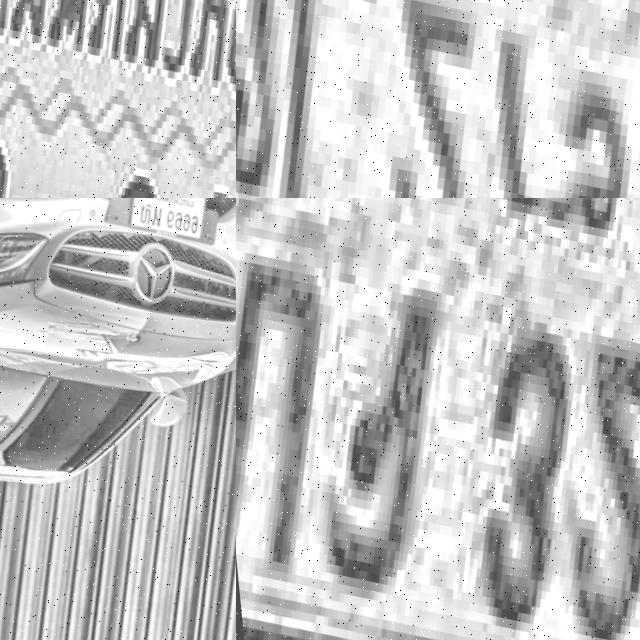license-plate: (236, 198, 640, 640), (236, 0, 640, 198), (0, 0, 236, 198), (119, 198, 209, 246)
